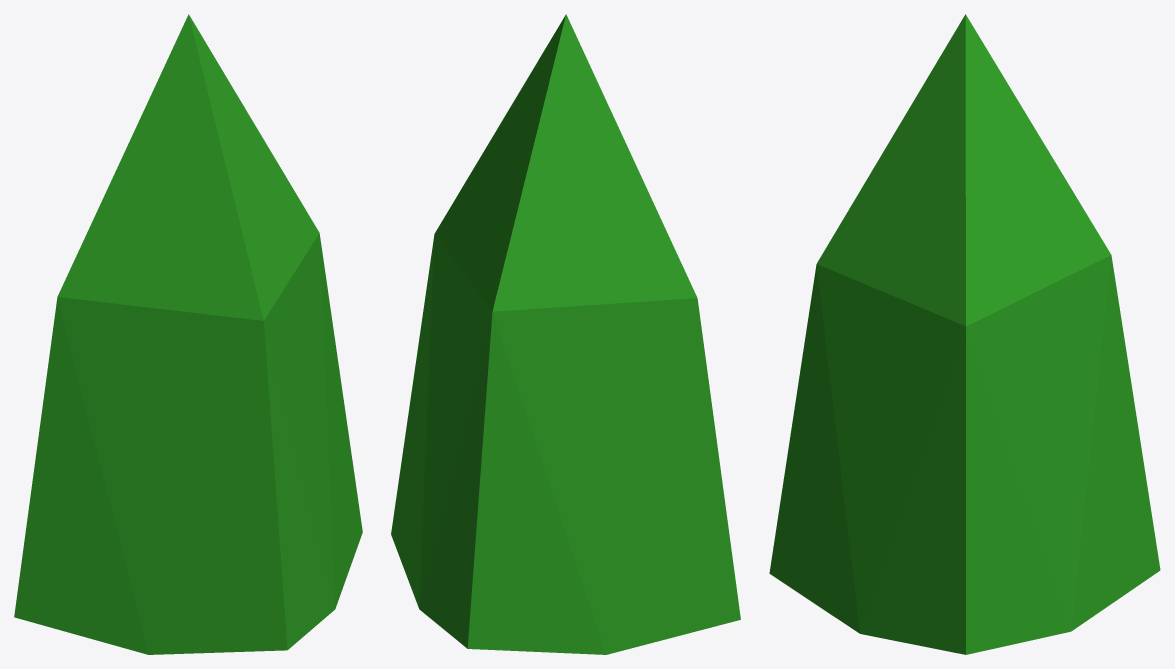
File: Simple Pyramid.dae
The picture shows the model from 3 angles, left to right: view 1: azimuth 30°, elevation 25°; view 2: azimuth 150°, elevation 25°; view 3: azimuth 270°, elevation 25°; orthographic projection.
Visible parts, largest first — view 1: Cone; view 2: Cone; view 3: Cone.
Part boxes in pixels (x1,y1,x2,y2): Cone: (14,14,362,654); Cone: (391,14,740,654); Cone: (769,14,1160,654).
Size of the model in its own units: 4.46 by 4.37 by 7.55.
